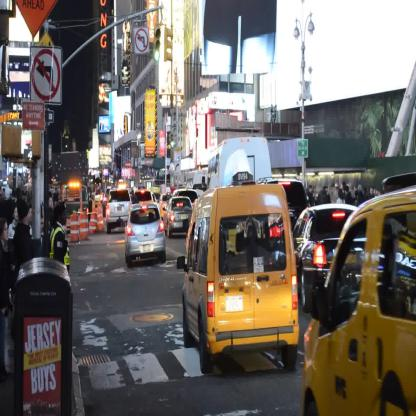car: (304, 188, 416, 413), (182, 184, 300, 374), (124, 204, 167, 267), (106, 189, 132, 235), (164, 198, 192, 235)
